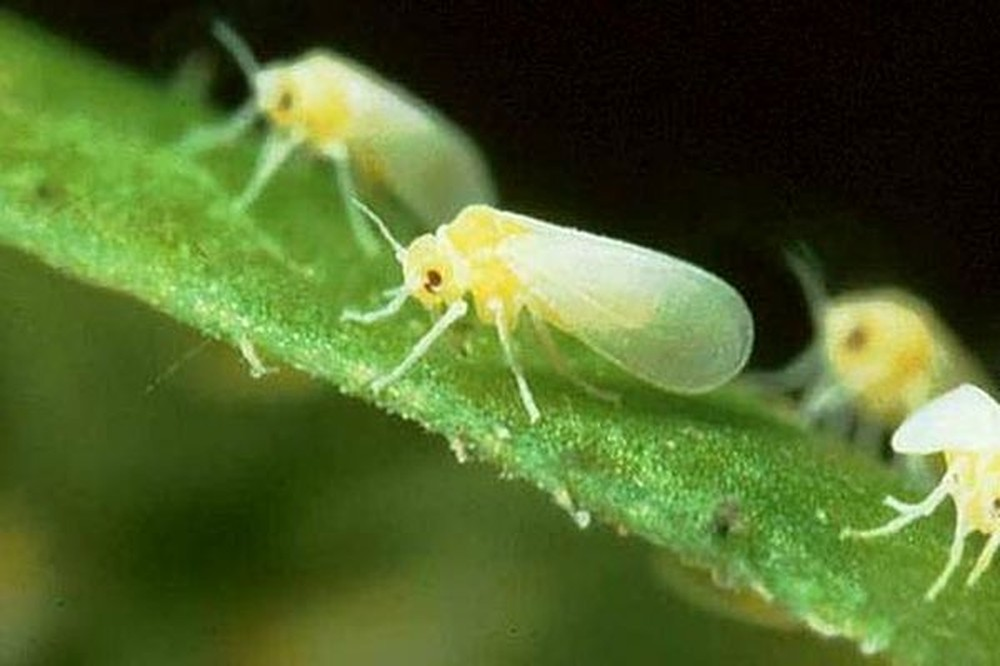Mosca Blanca: (355, 179, 763, 434), (196, 20, 535, 250)
